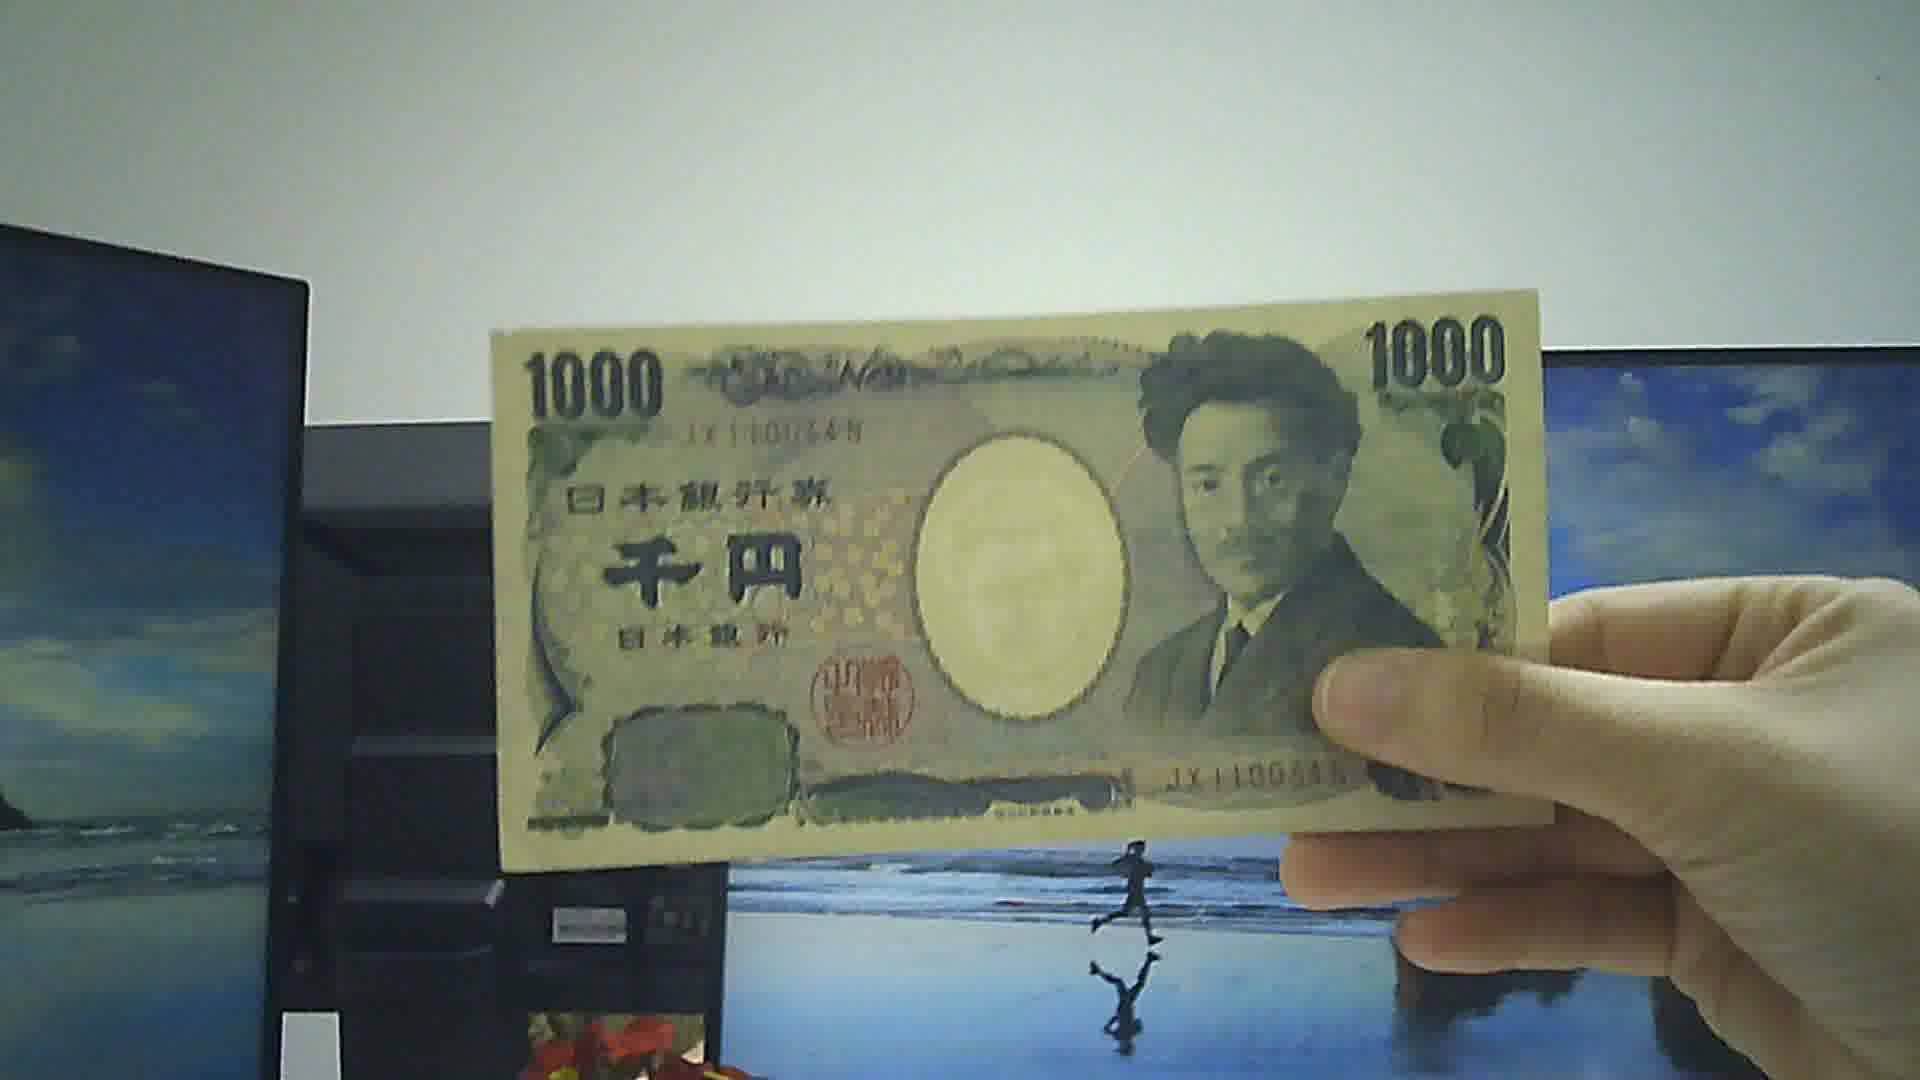1,000 Yen: (473, 293, 1571, 880)
